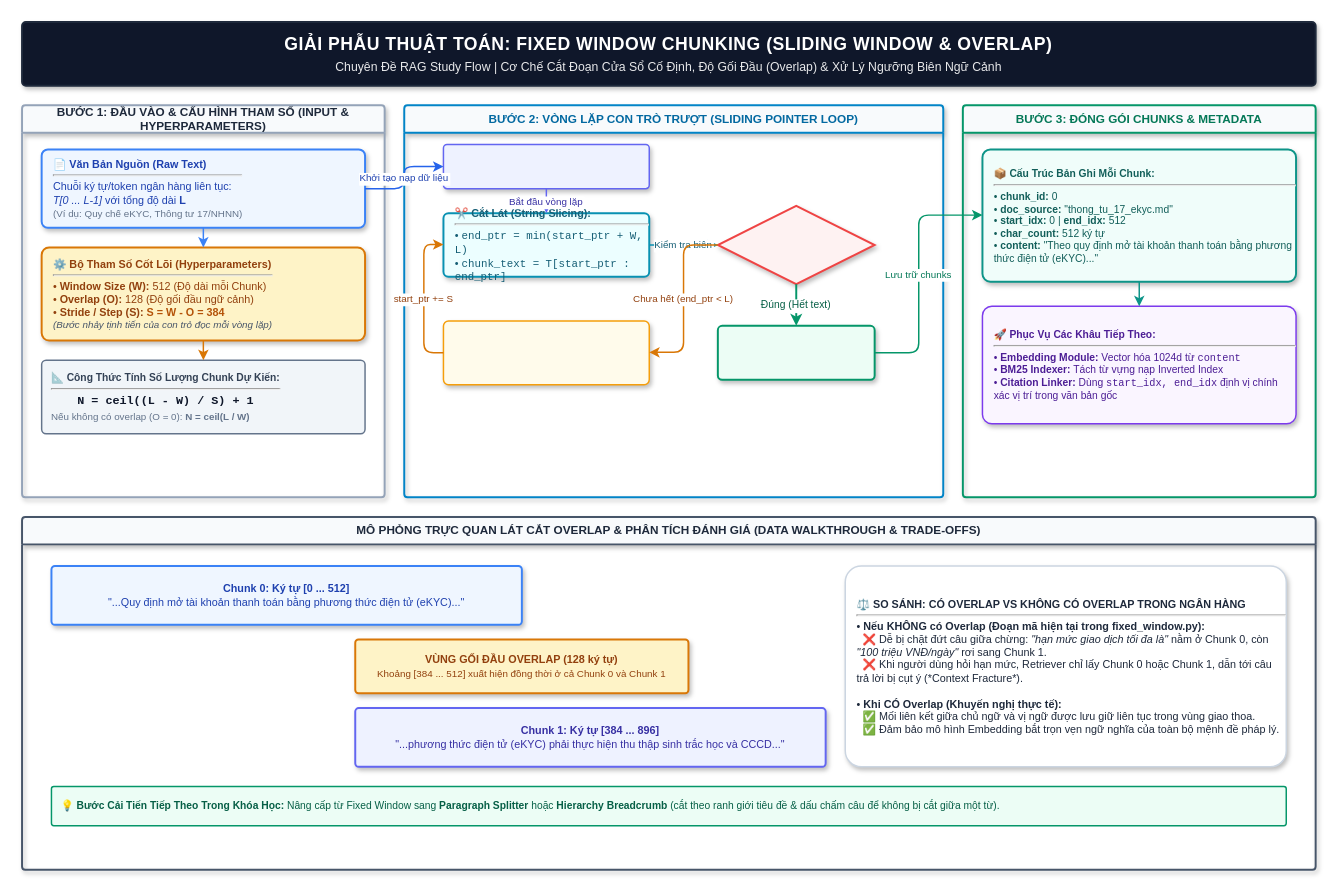
This 1339x894 diagram has some shape labels left out. The shapes that lost their labels are listed below. From the top down, each one's centre as x and y in pixels, then its label:
pixel 546 167: Khởi Tạo Con Trỏ: start_ptr = 0 | chunk_id = 0
pixel 796 246: Đã Quét Hết? end_ptr >= L ?
pixel 546 354: Tịnh Tiến Con Trỏ (Stride): • start_ptr += S (+384 ký tự) • chunk_id += 1
pixel 796 353: Hoàn Tất Lặp Trả về List[Chunk]
